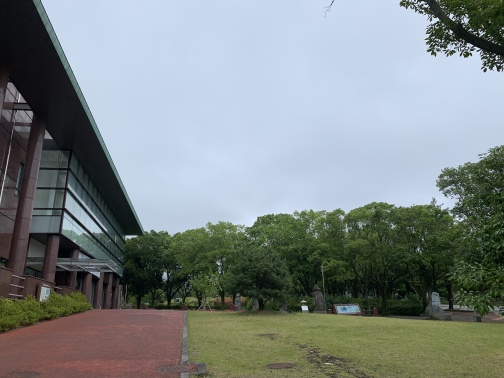Museum: (1, 1, 149, 337)
